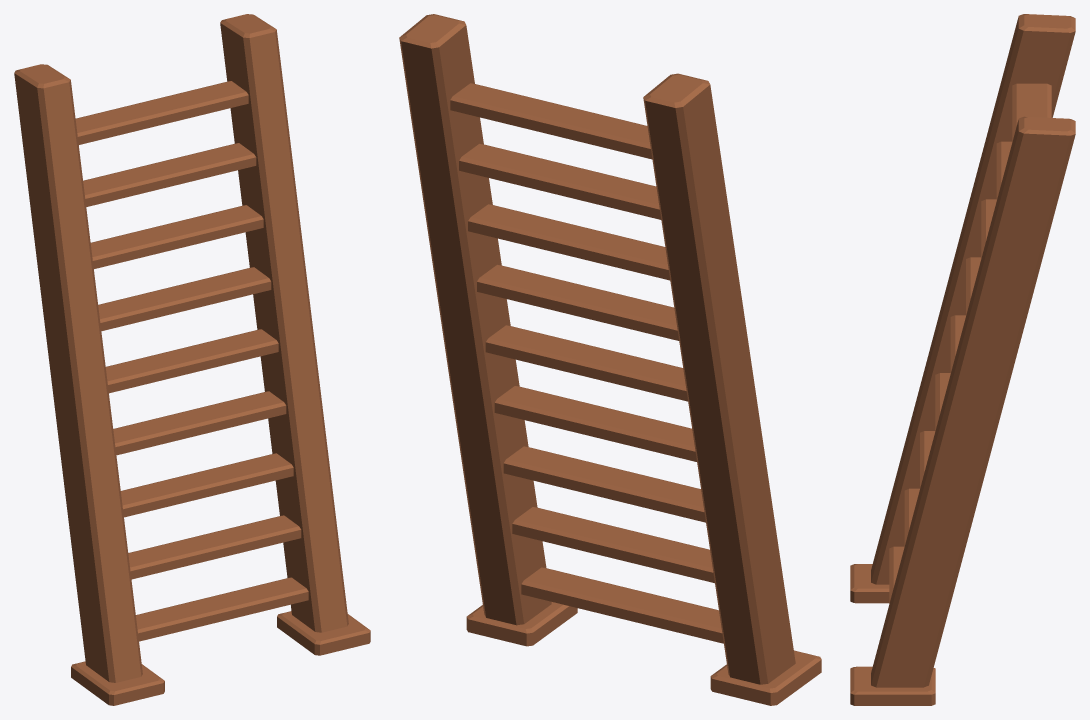
Rendered from SM_Menu_ScaffoldLadder.fbx.
The picture shows the model from 3 angles, left to right: view 1: azimuth 30°, elevation 25°; view 2: azimuth 150°, elevation 25°; view 3: azimuth 270°, elevation 25°; orthographic projection. The views are drawn at different scales.
Parts seen in each view (by area): view 1: SM_Menu_ScaffoldLadder; view 2: SM_Menu_ScaffoldLadder; view 3: SM_Menu_ScaffoldLadder.
Boxes of the visible parts, x1,y1,x2,y2 form: SM_Menu_ScaffoldLadder: [14, 14, 370, 705]; SM_Menu_ScaffoldLadder: [399, 14, 821, 705]; SM_Menu_ScaffoldLadder: [850, 14, 1075, 705].
Bounding box in the file's own units: 85 × 62 × 173.
